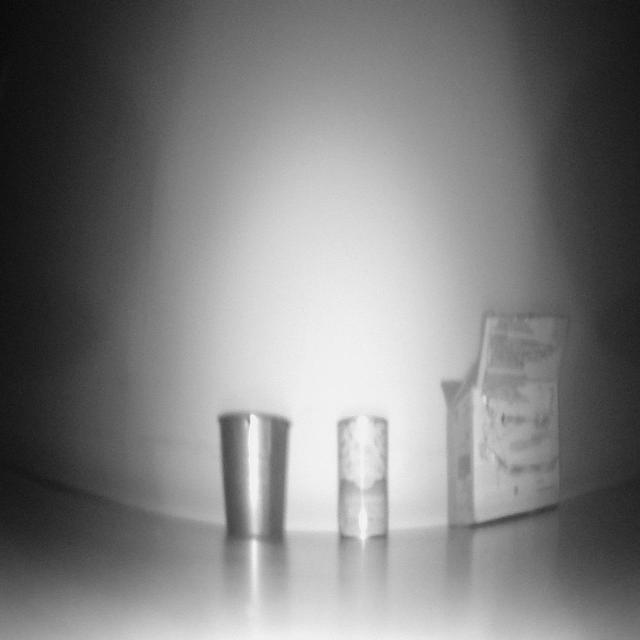targets: (441, 301, 575, 533), (218, 408, 292, 536), (330, 408, 401, 540)
